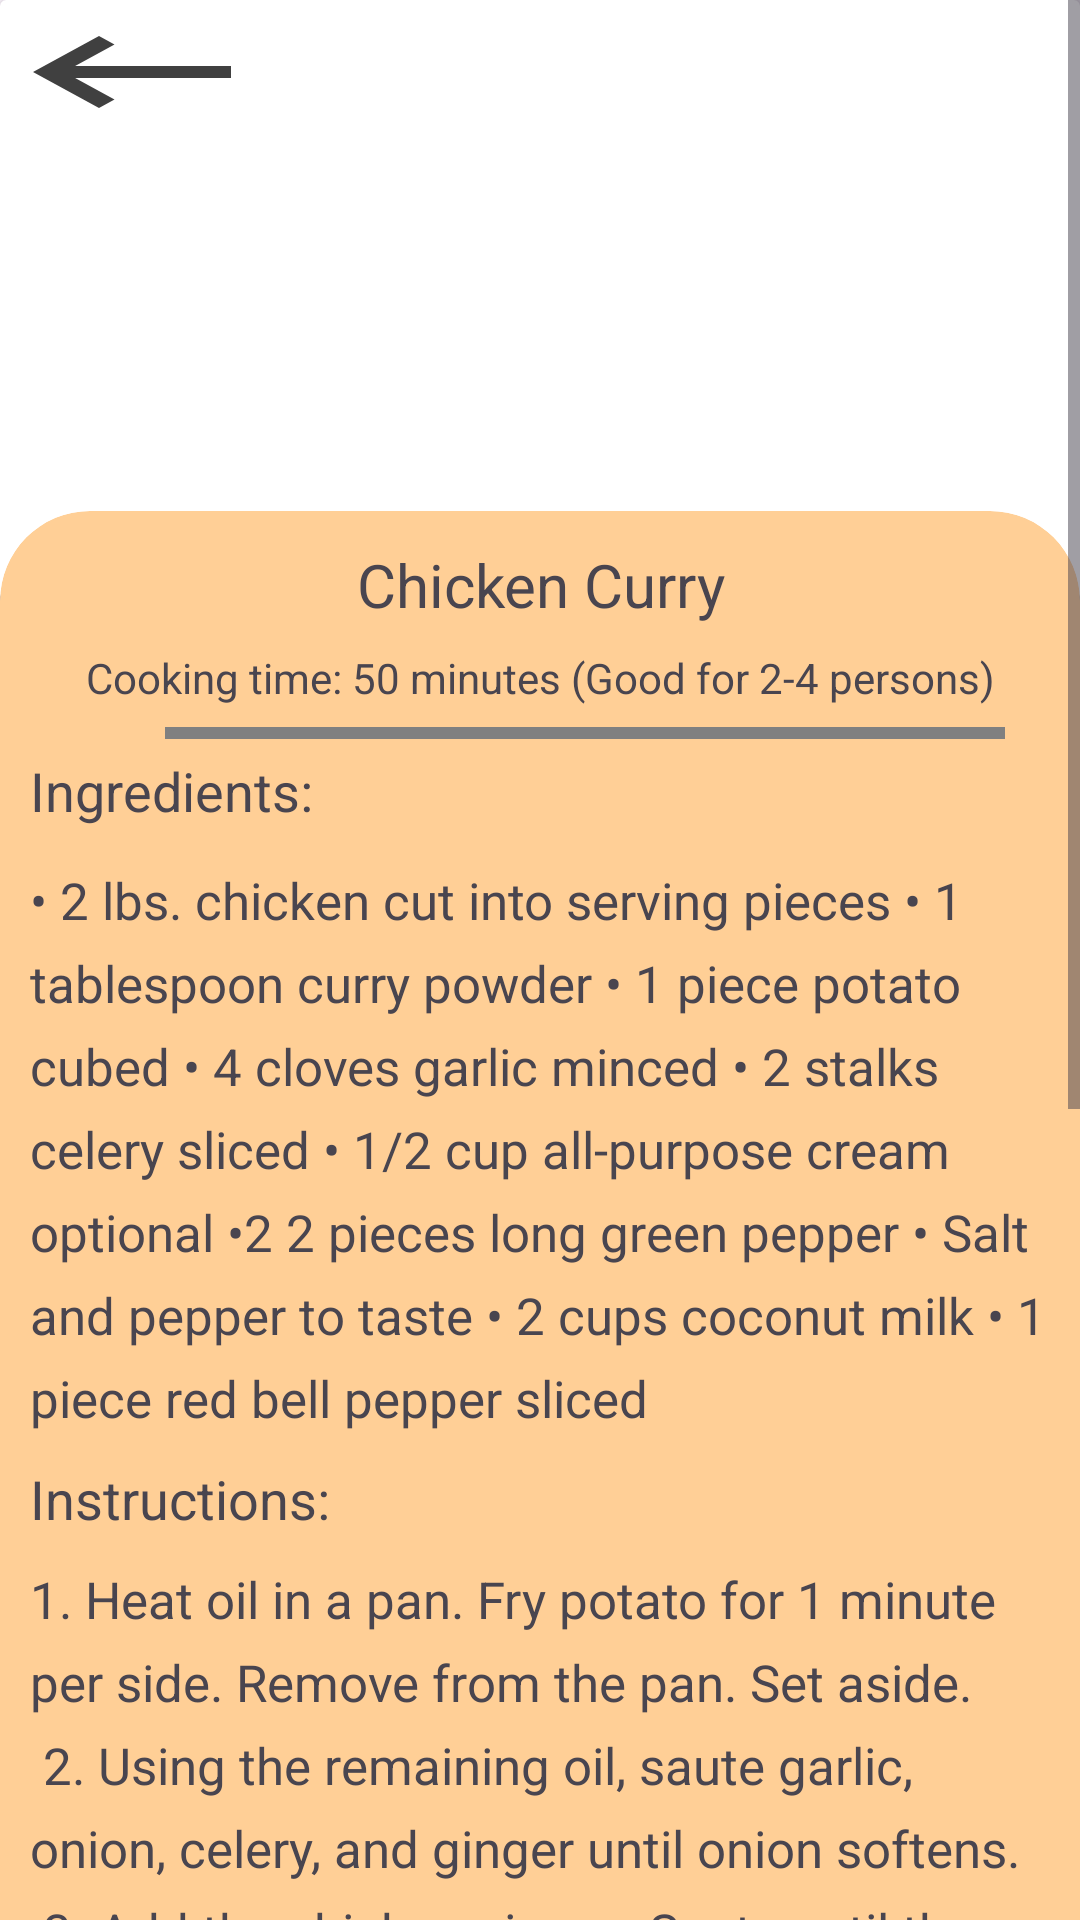

Where to tap for icons on this 1080 x 1920 app screen, as (x,y):
keyboard backspace: (115,54)
